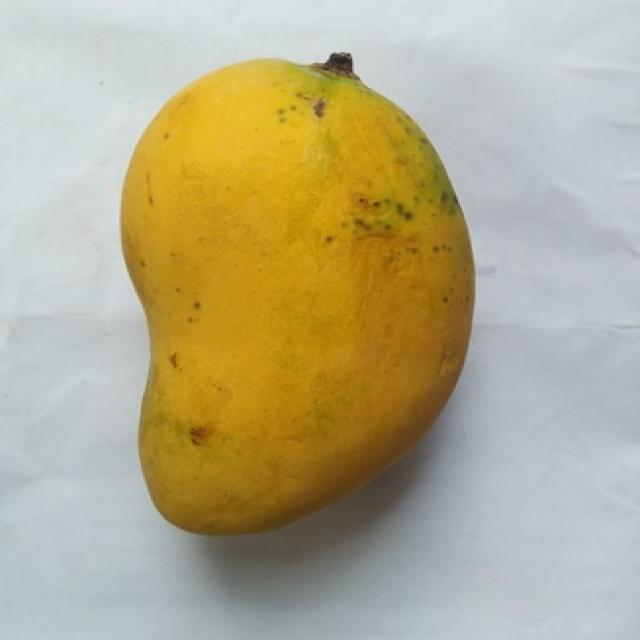Mango: (121, 54, 474, 531)
